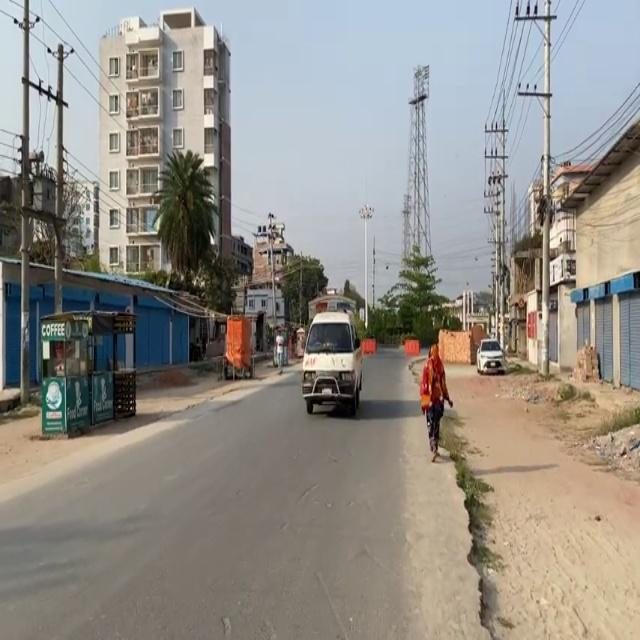Broken-road: (300, 309, 363, 416)
Construction-barrier: (407, 353, 500, 639)
Garbage: (38, 308, 137, 438), (222, 314, 254, 379)
Garbage-bin: (419, 343, 453, 462)
Light-pole: (18, 0, 32, 405)
Pothole: (412, 348, 639, 639)
